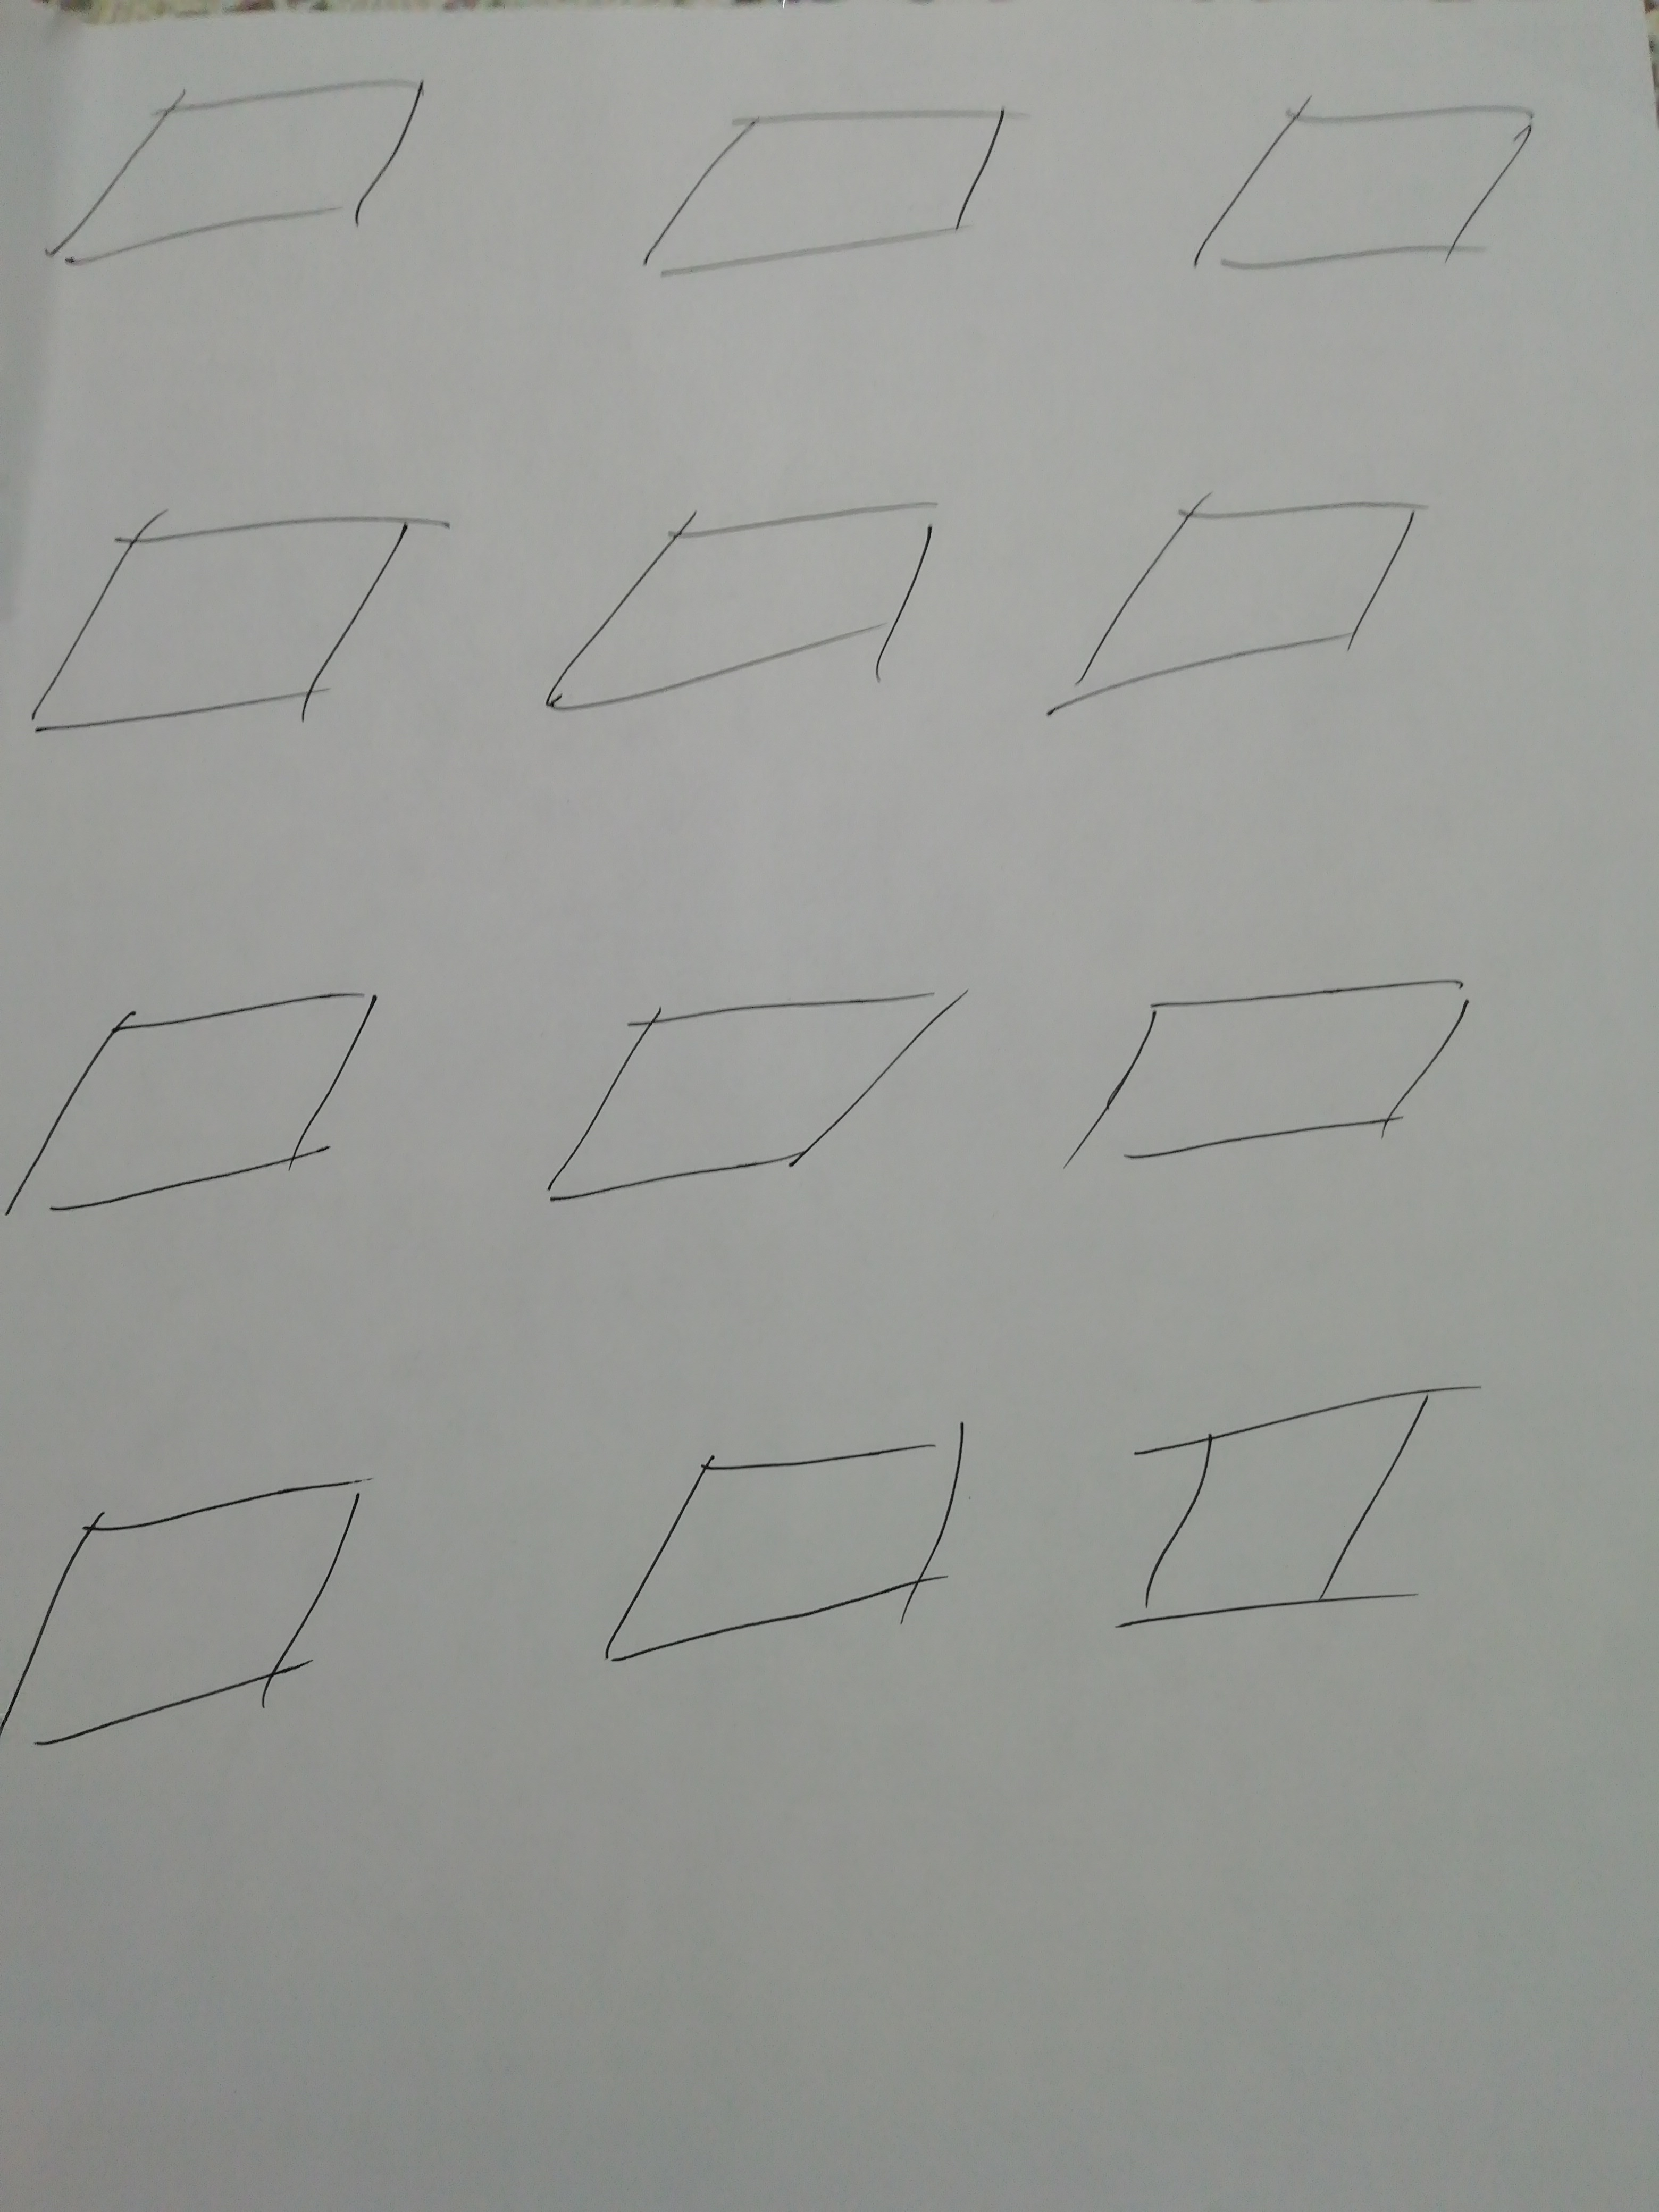scan: (1086, 1350, 1561, 1672), (565, 1400, 1012, 1716), (16, 482, 465, 773), (1040, 475, 1480, 768), (2, 1446, 396, 1761), (533, 960, 990, 1230), (0, 963, 439, 1244), (526, 465, 958, 747), (1054, 960, 1527, 1195), (587, 85, 1061, 312), (33, 54, 484, 284), (1168, 64, 1565, 315)
